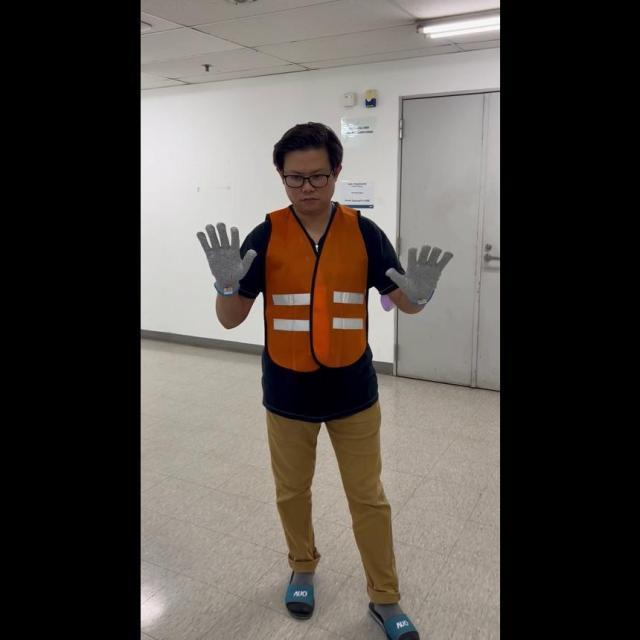gloved_hand: (383, 239, 452, 304), (196, 216, 255, 292)
